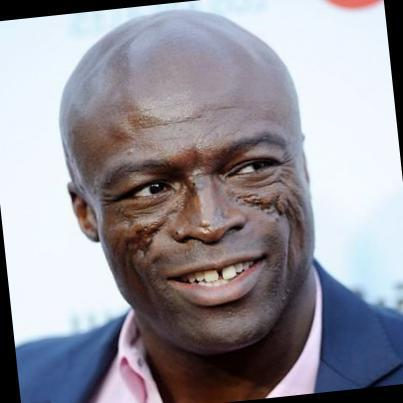Sober: (83, 77, 310, 340)
